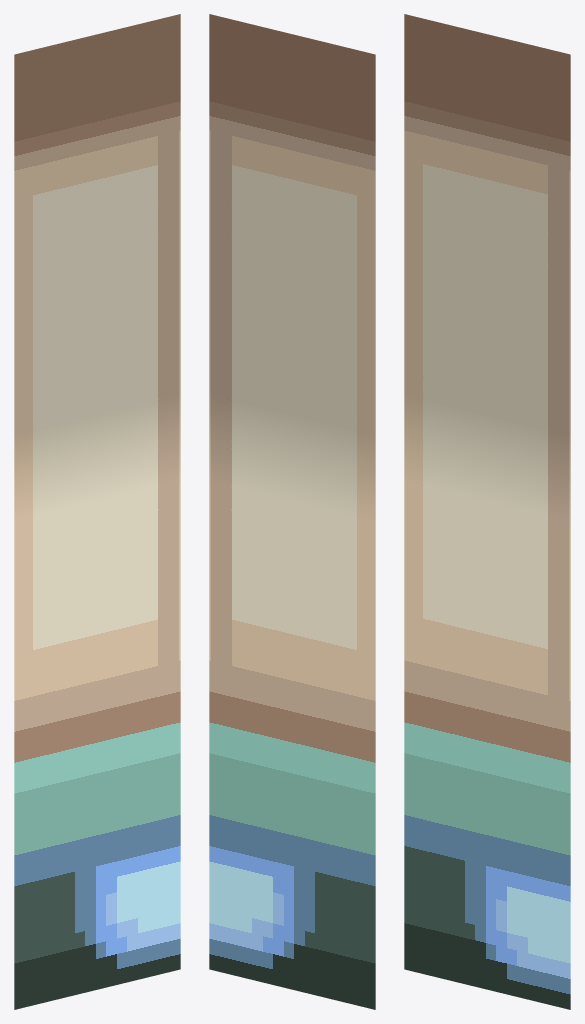
The picture shows the model from 3 angles, left to right: view 1: azimuth 30°, elevation 25°; view 2: azimuth 150°, elevation 25°; view 3: azimuth 330°, elevation 25°; orthographic projection.
Bounding box in the file's own units: 1 × 5.5 × 0.
Materials: 1 (1 with a texture image).
